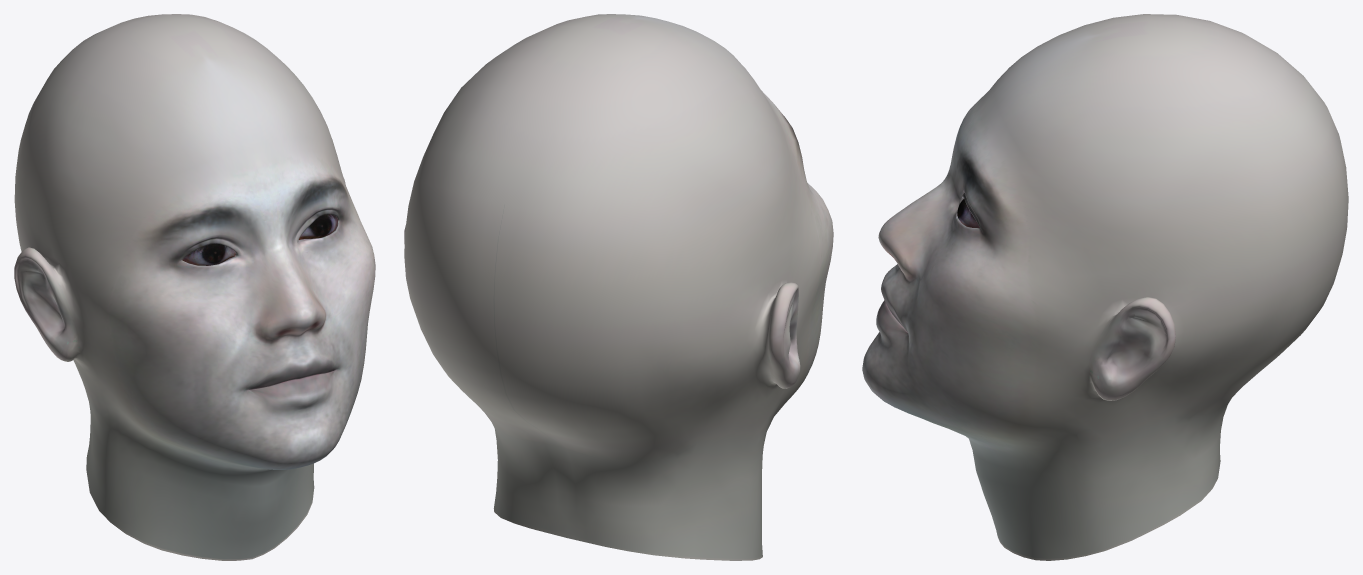
3 renders of one model, left to right at view 1: azimuth 30°, elevation 25°; view 2: azimuth 150°, elevation 25°; view 3: azimuth 270°, elevation 25°, orthographic. The views are drawn at different scales.
Parts seen in each view (by area): view 1: skin_hi, eyeR_hi, eyeL_hi; view 2: skin_hi; view 3: skin_hi.
Part boxes in pixels (x1,y1,x2,y2): skin_hi: [14, 14, 375, 560]; eyeR_hi: [182, 244, 235, 265]; eyeL_hi: [299, 214, 338, 239]; skin_hi: [404, 14, 833, 560]; skin_hi: [862, 14, 1348, 560].
Size of the model in its own units: 200 by 282 by 244.
